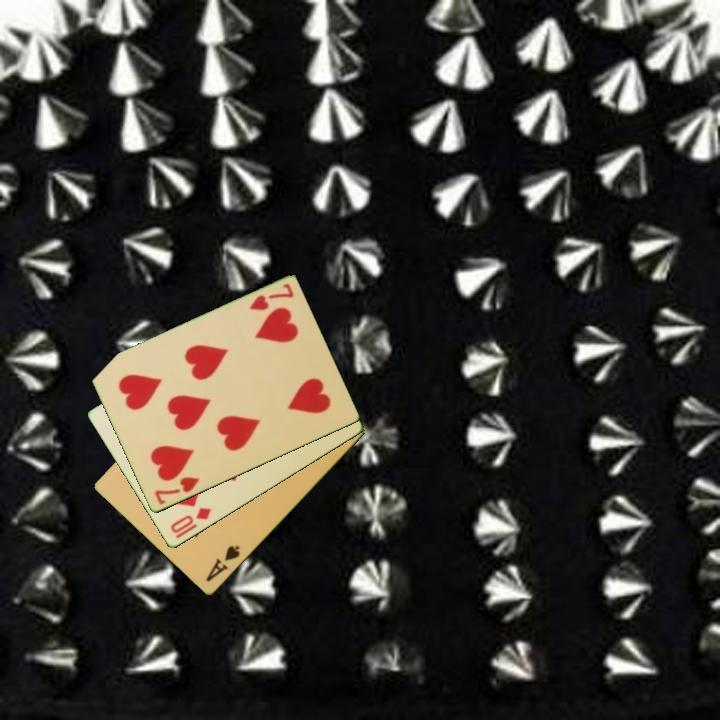10d: (167, 504, 214, 542)
7h: (151, 473, 202, 508), (246, 280, 297, 314)
As: (202, 542, 243, 585)
